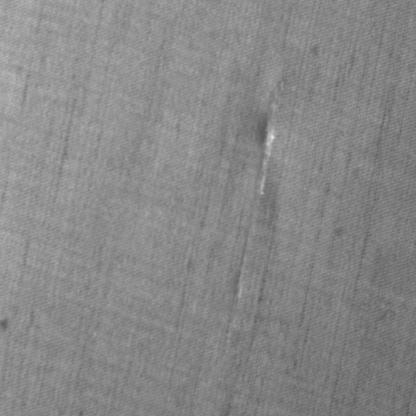thread error: (247, 59, 289, 214)
